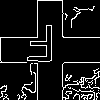F: (25, 25, 56, 70)
